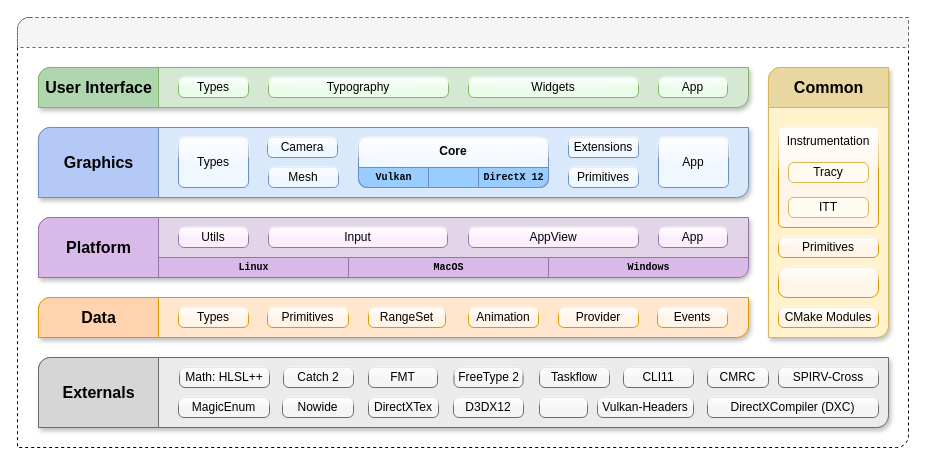
This 926x465 diagram has some shape labels left out. Each missing label, with the centre of its shape:
"Metal" belongs at point (453, 177).
"Methane Kit" belongs at point (462, 32).
"Precompiled Headers" belongs at point (828, 282).
"STB" belongs at point (563, 407).
